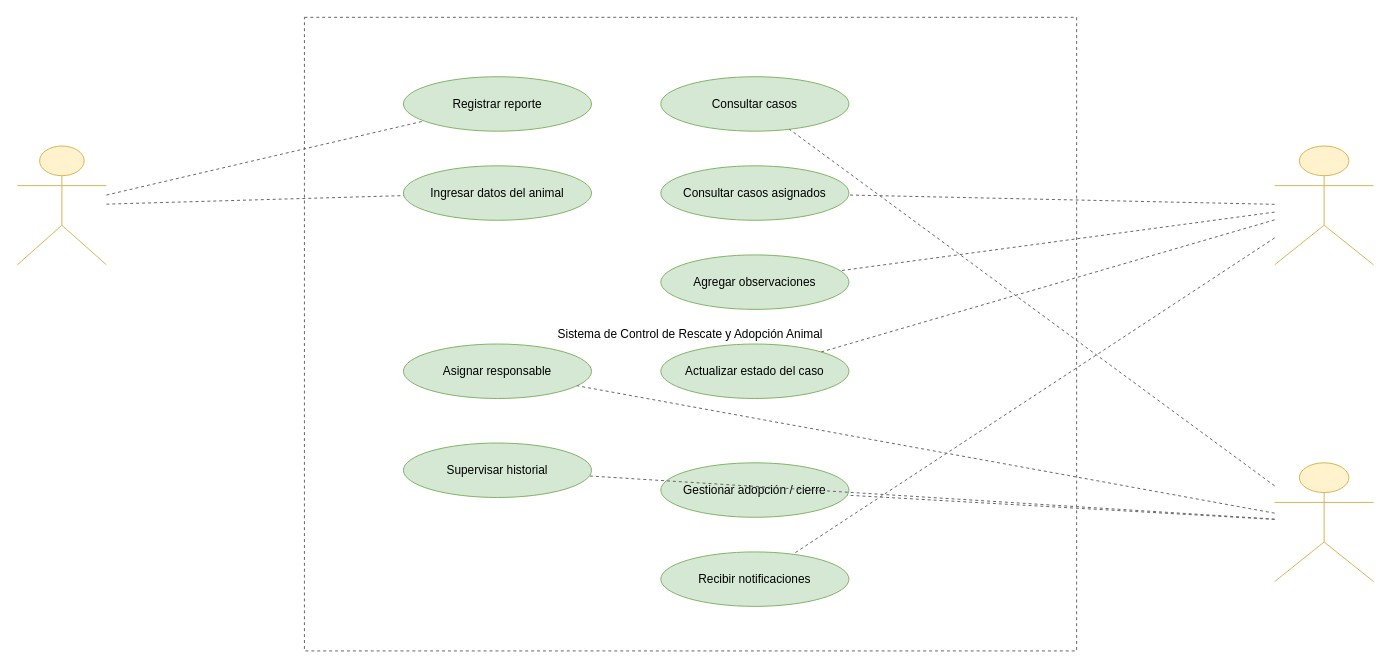
Image size: 1391x668. Some labels were removed from this diagram. Here are the shapes that lost their labels. From the top down, the centre of each, then its label:
(x=61, y=205): Ciudadano / Reportante
(x=1324, y=205): Voluntario / Veterinario
(x=1324, y=522): Administrador del Refugio
